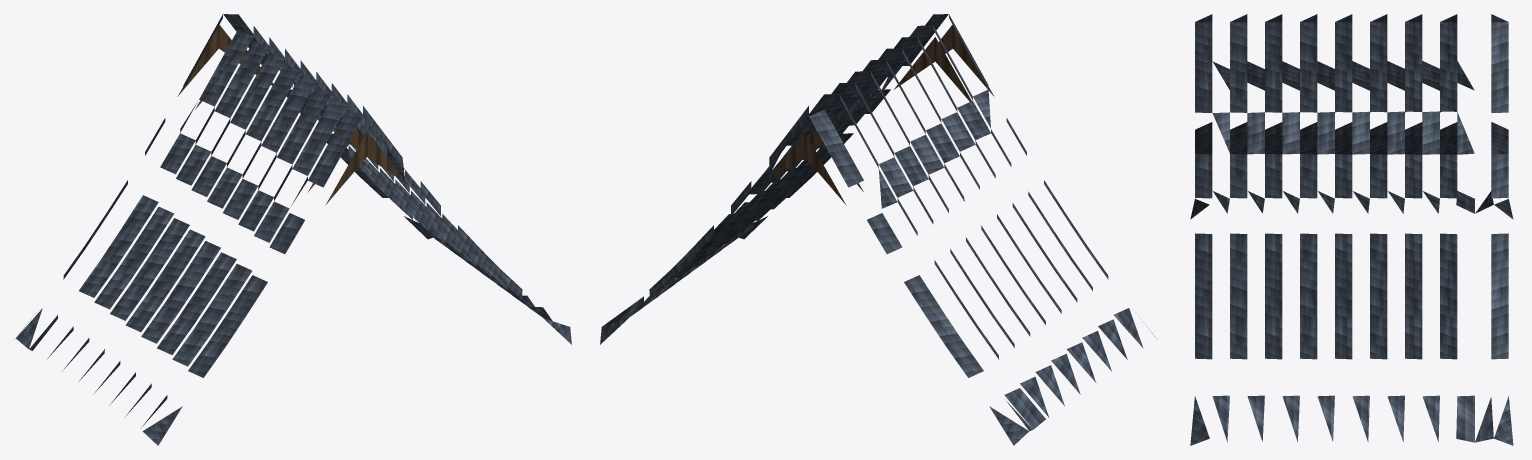
Rendered from Roof_Slate_6x4_LOD2.gltf.
The picture shows the model from 3 angles, left to right: view 1: azimuth 30°, elevation 25°; view 2: azimuth 150°, elevation 25°; view 3: azimuth 270°, elevation 25°; orthographic projection. The views are drawn at different scales.
Parts seen in each view (by area): view 1: Roof_Slate_6x4_LOD2; view 2: Roof_Slate_6x4_LOD2; view 3: Roof_Slate_6x4_LOD2.
Part boxes in pixels (bbox=[...]): Roof_Slate_6x4_LOD2: bbox=[14, 14, 571, 445]; Roof_Slate_6x4_LOD2: bbox=[600, 14, 1157, 445]; Roof_Slate_6x4_LOD2: bbox=[1190, 14, 1513, 445].
Size of the model in its own units: 8.25 by 5.17 by 4.95.
2 materials, 2 textured.
